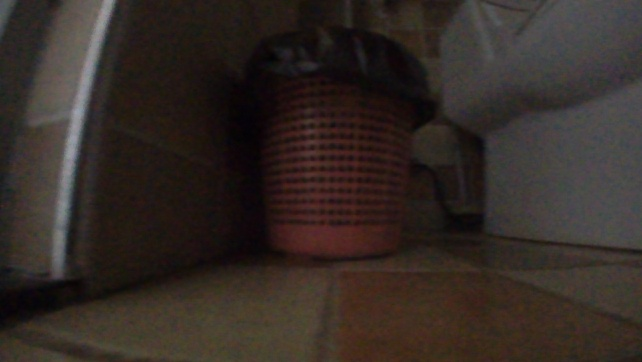toilet: (435, 0, 641, 255)
